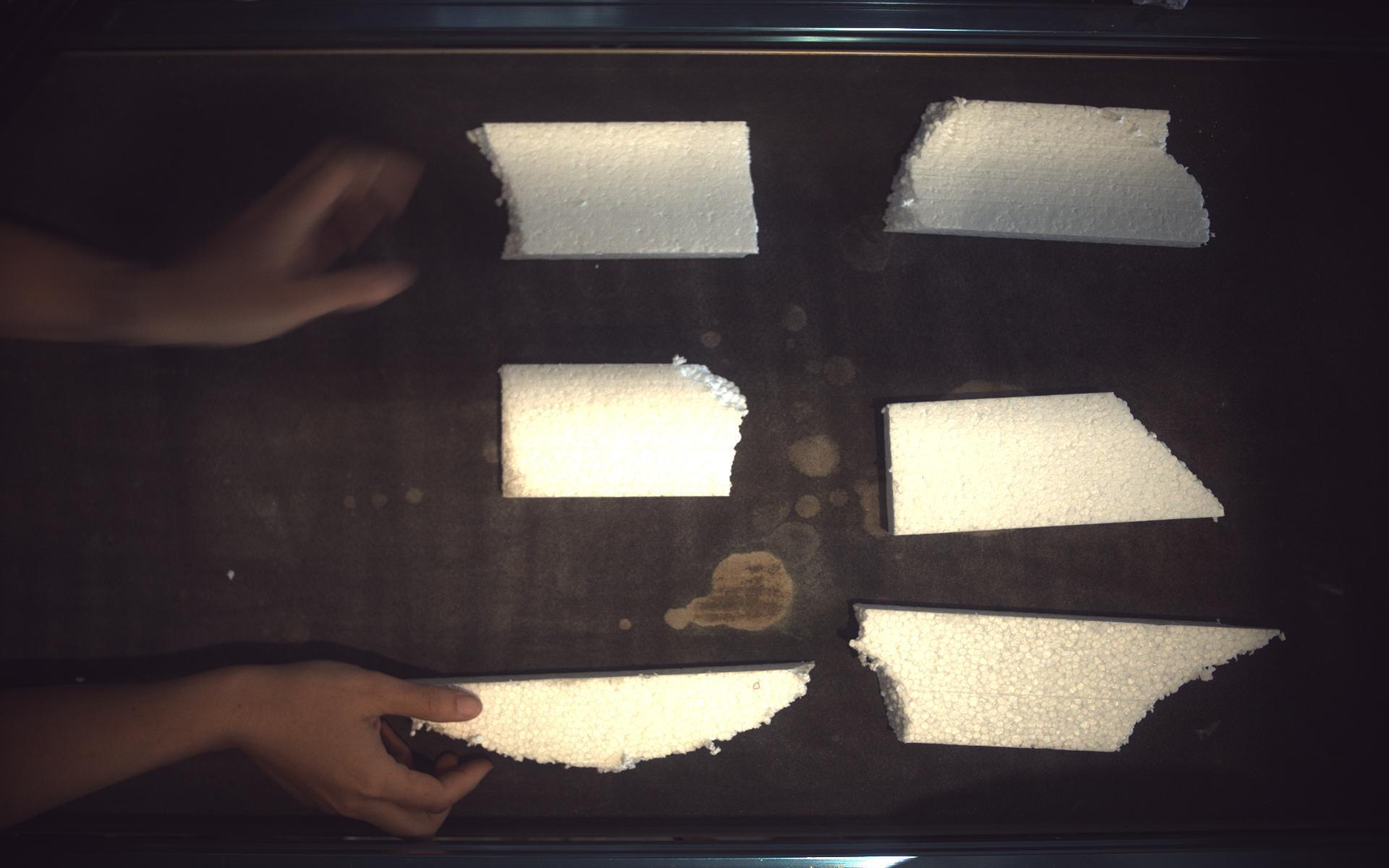foam: (852, 604, 1287, 753), (887, 96, 1211, 247), (886, 393, 1227, 535), (414, 663, 815, 773), (470, 120, 759, 258), (500, 356, 749, 498)
